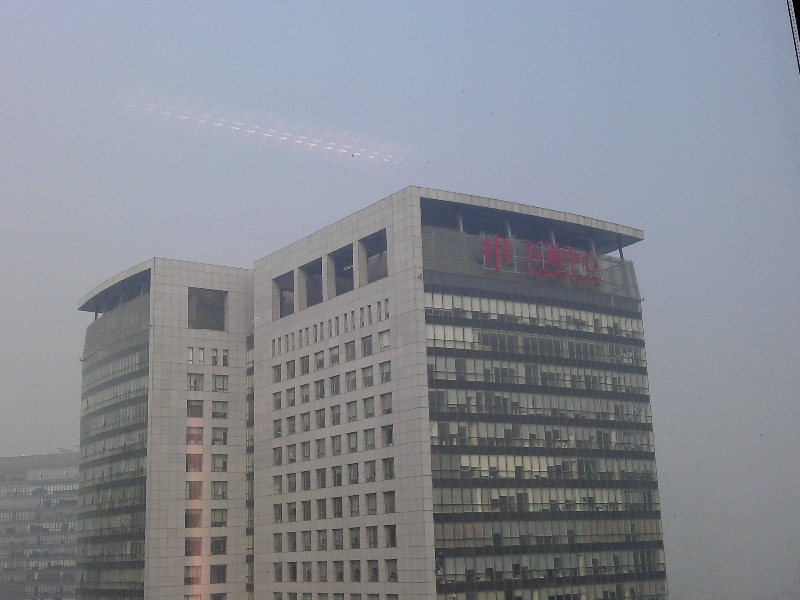text: (529, 240, 544, 273), (545, 240, 560, 273), (561, 240, 576, 273), (577, 240, 592, 273), (529, 266, 544, 282), (545, 266, 560, 282), (577, 273, 592, 288), (593, 240, 599, 273), (593, 273, 603, 288), (524, 240, 528, 273), (561, 266, 569, 282), (571, 273, 576, 288), (526, 266, 528, 282)
